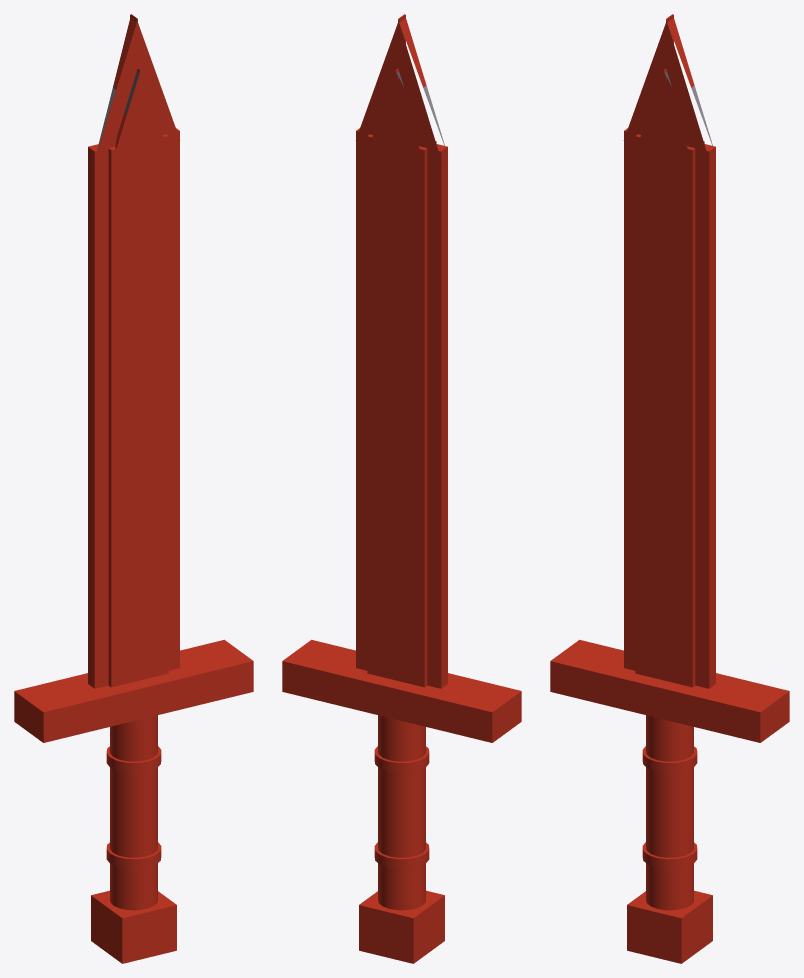
3 views of the same model, side by side, from view 1: azimuth 30°, elevation 25°; view 2: azimuth 150°, elevation 25°; view 3: azimuth 330°, elevation 25° (orthographic).
Parts seen in each view (by area): view 1: rank-attacker-b; view 2: rank-attacker-b; view 3: rank-attacker-b.
Boxes of the visible parts, bbox=[...] form: rank-attacker-b: bbox=[14, 14, 253, 963]; rank-attacker-b: bbox=[282, 14, 521, 963]; rank-attacker-b: bbox=[550, 14, 789, 963].
Size of the model in its own units: 0.2024 by 0.8551 by 0.0526.
